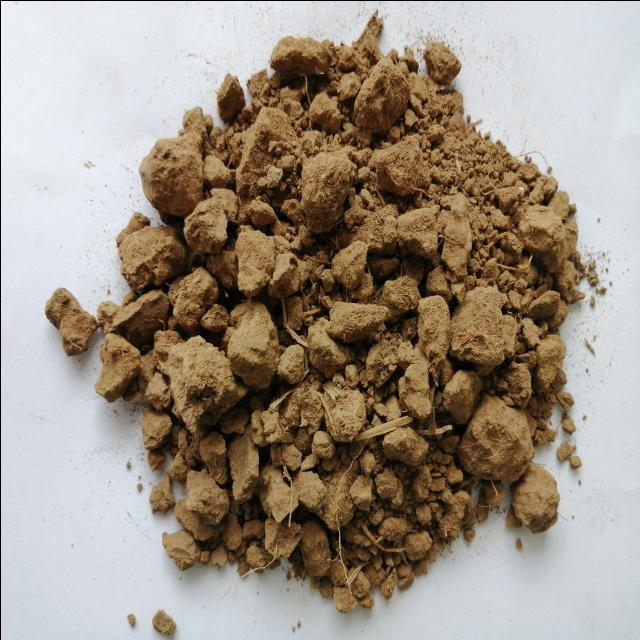soil: (176, 122, 504, 526)
